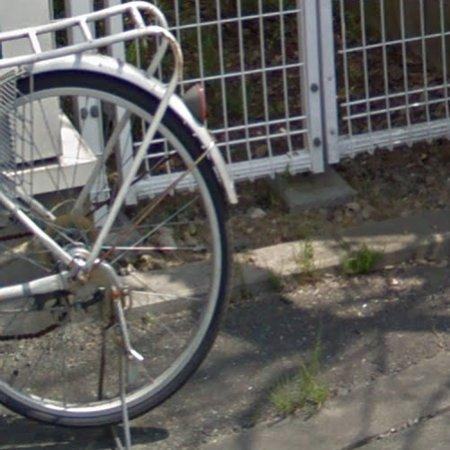bicycles: (0, 1, 238, 447)
